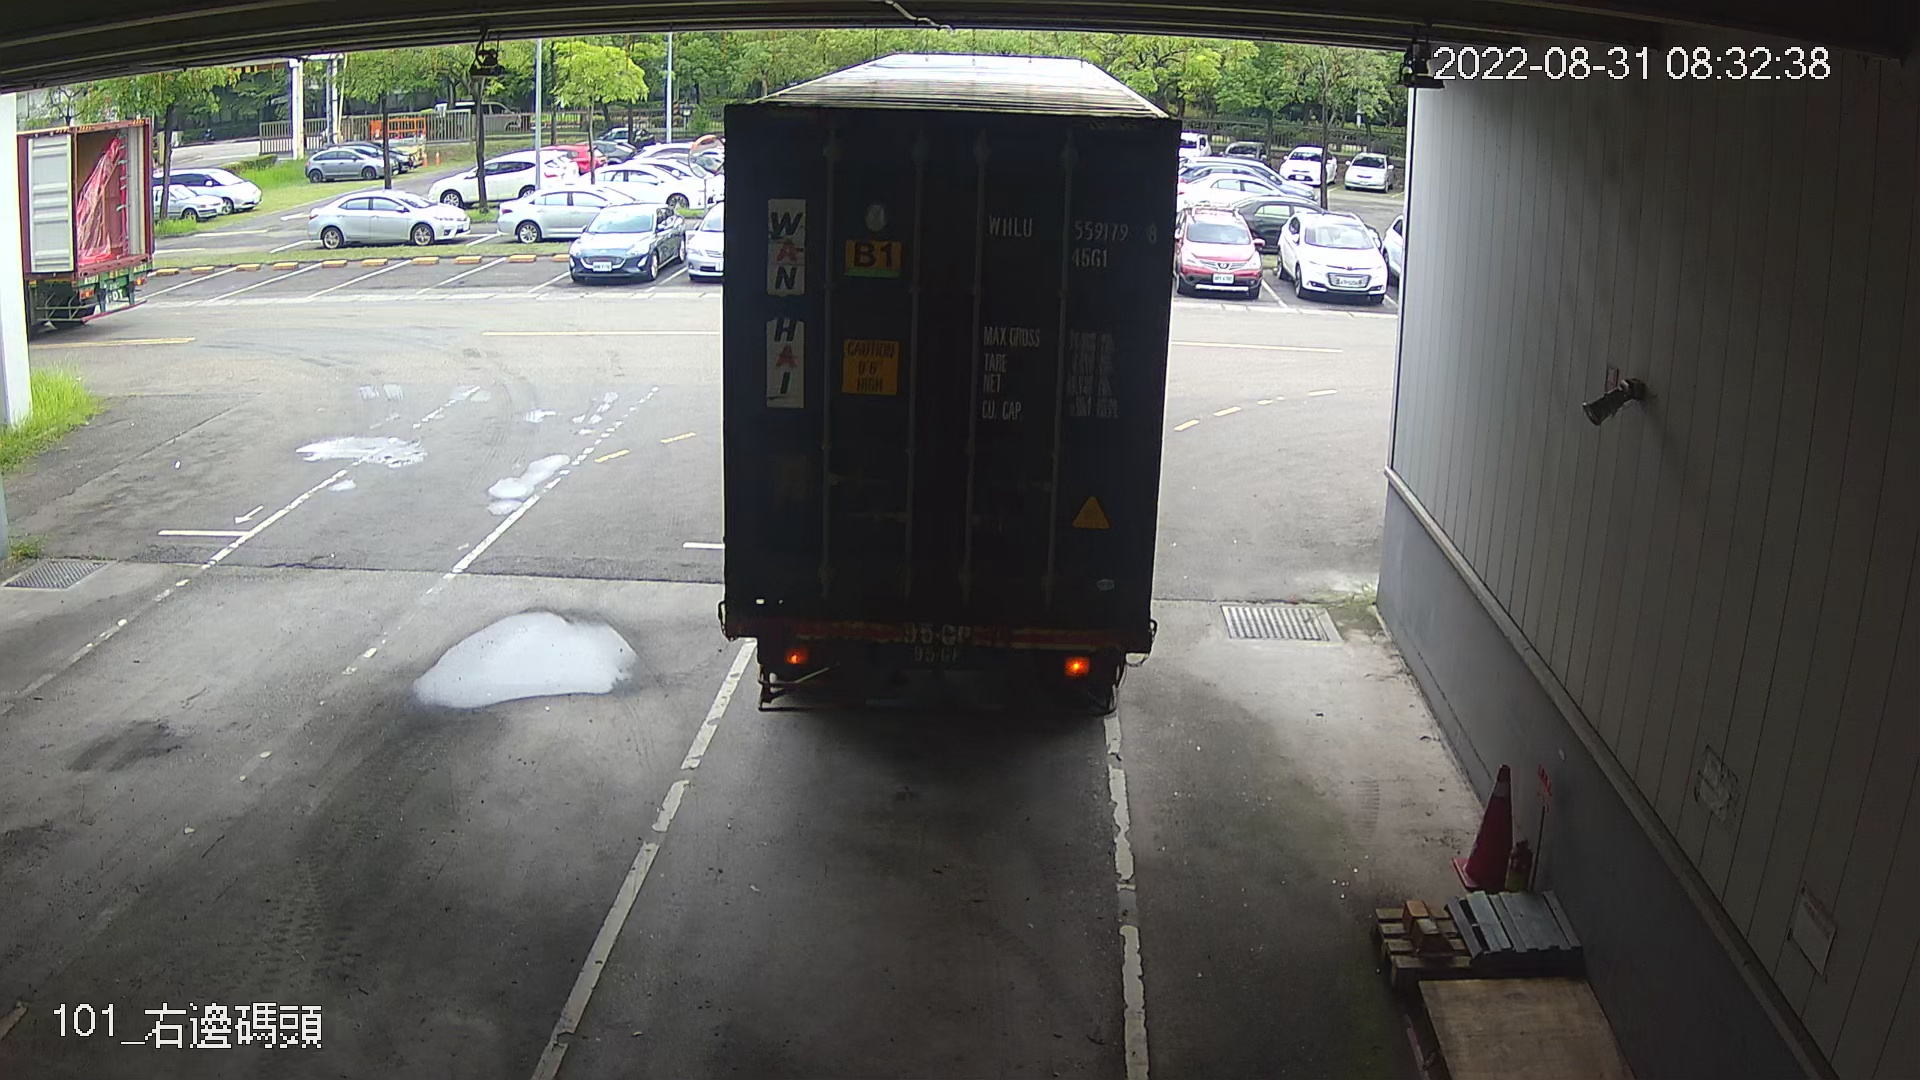container: (982, 199, 1170, 280)
